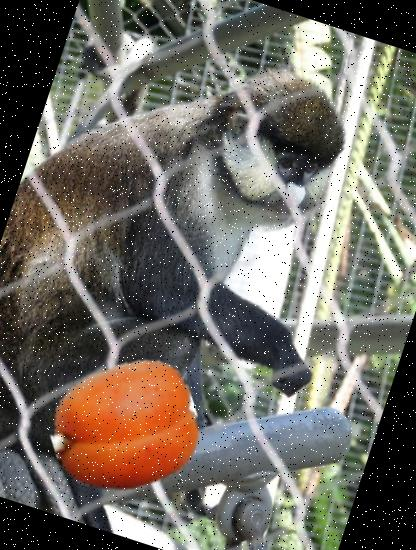Apricot: (31, 334, 217, 520)
